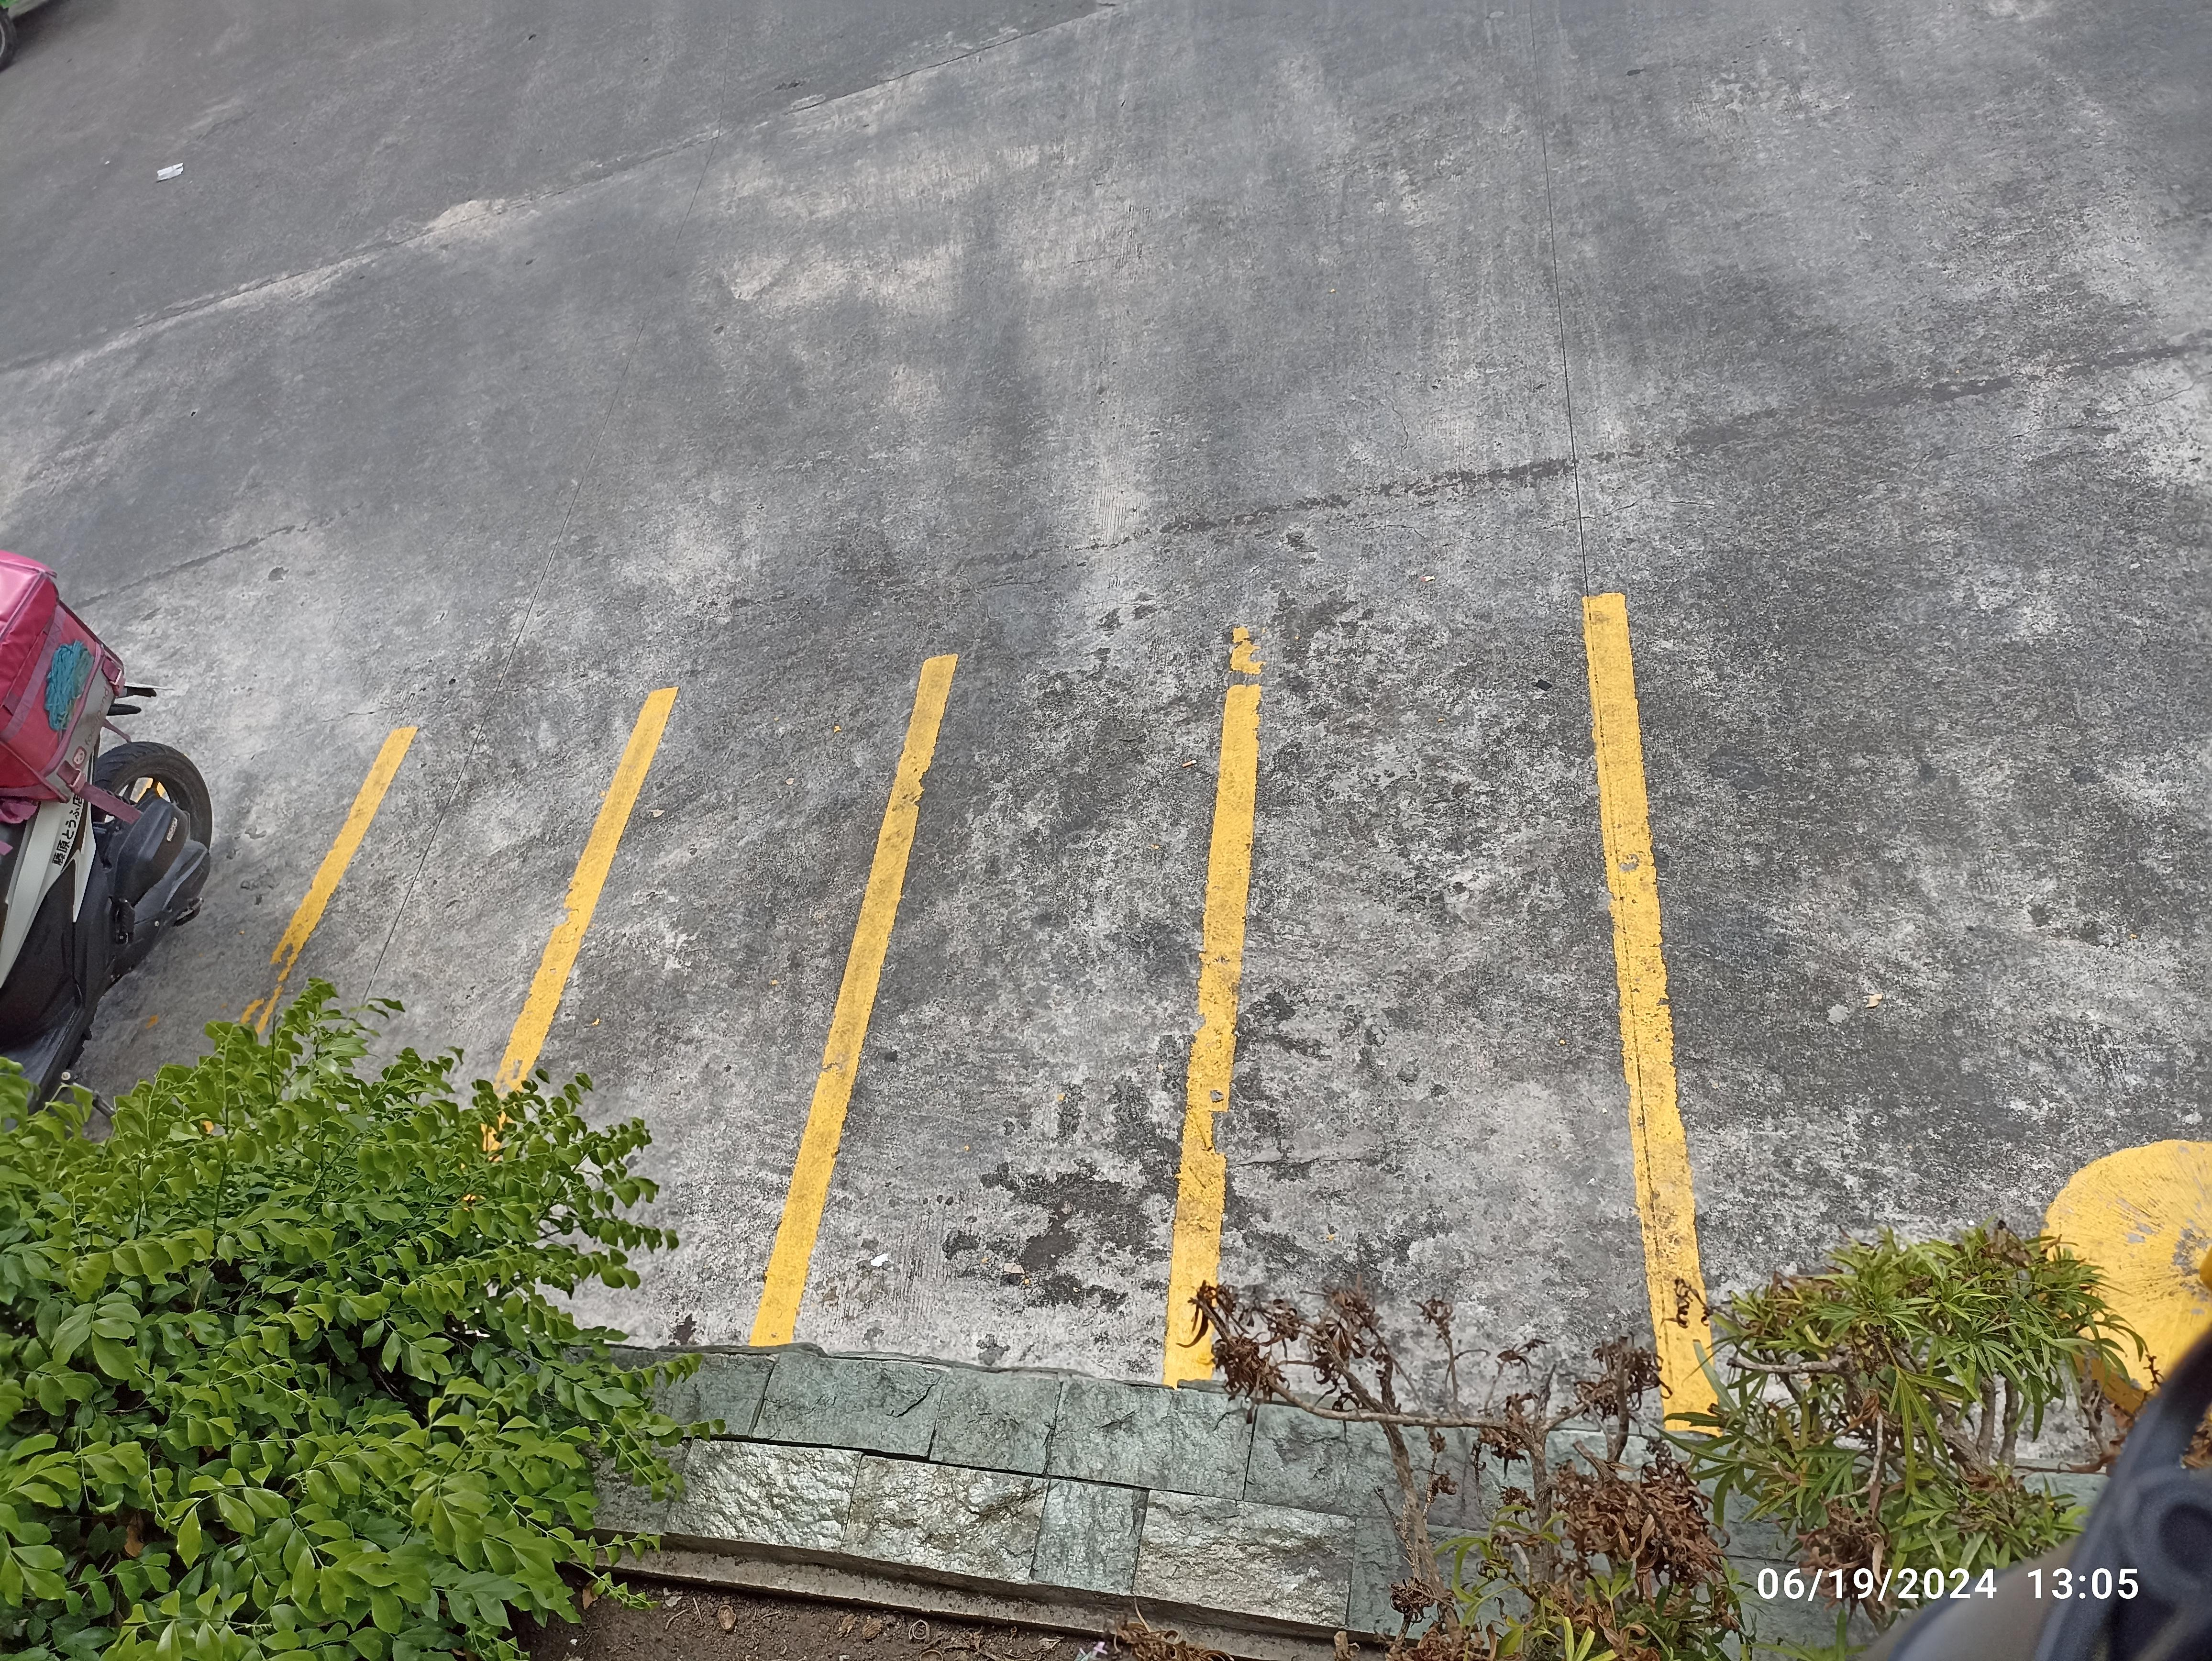vacant: (1167, 593, 1711, 1429), (391, 647, 963, 1352), (745, 633, 1270, 1387), (147, 687, 682, 1176)
